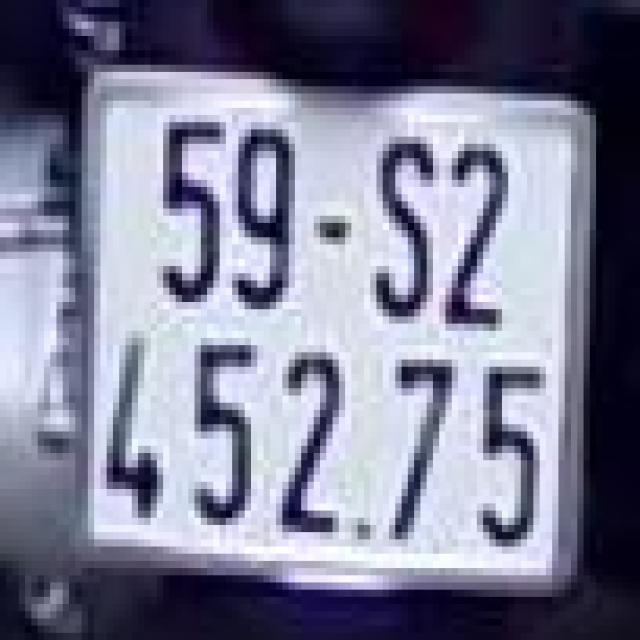2: (442, 133, 518, 342), (276, 331, 345, 554)
4: (97, 331, 173, 525)
5: (147, 108, 235, 309), (474, 352, 555, 546), (182, 327, 257, 536)
7: (383, 342, 458, 550)
9: (229, 108, 298, 331)
S: (370, 122, 439, 331)
